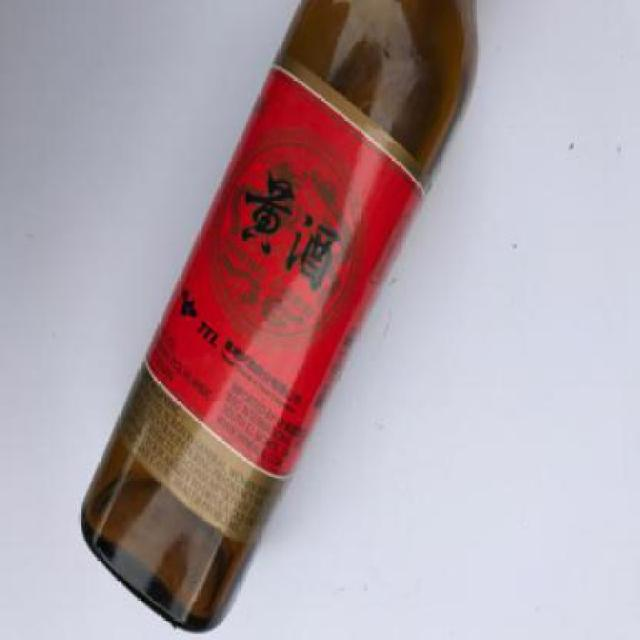glass: (80, 2, 482, 636)
